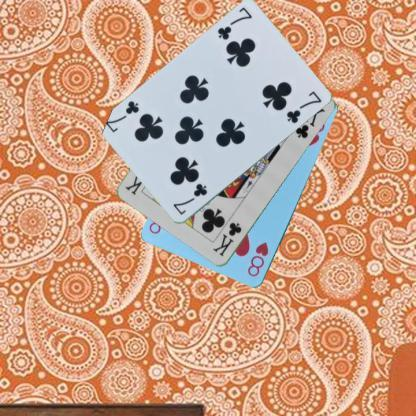7c: (214, 4, 254, 42), (170, 181, 208, 217)
8h: (245, 239, 270, 279)
Kc: (210, 220, 244, 258)
